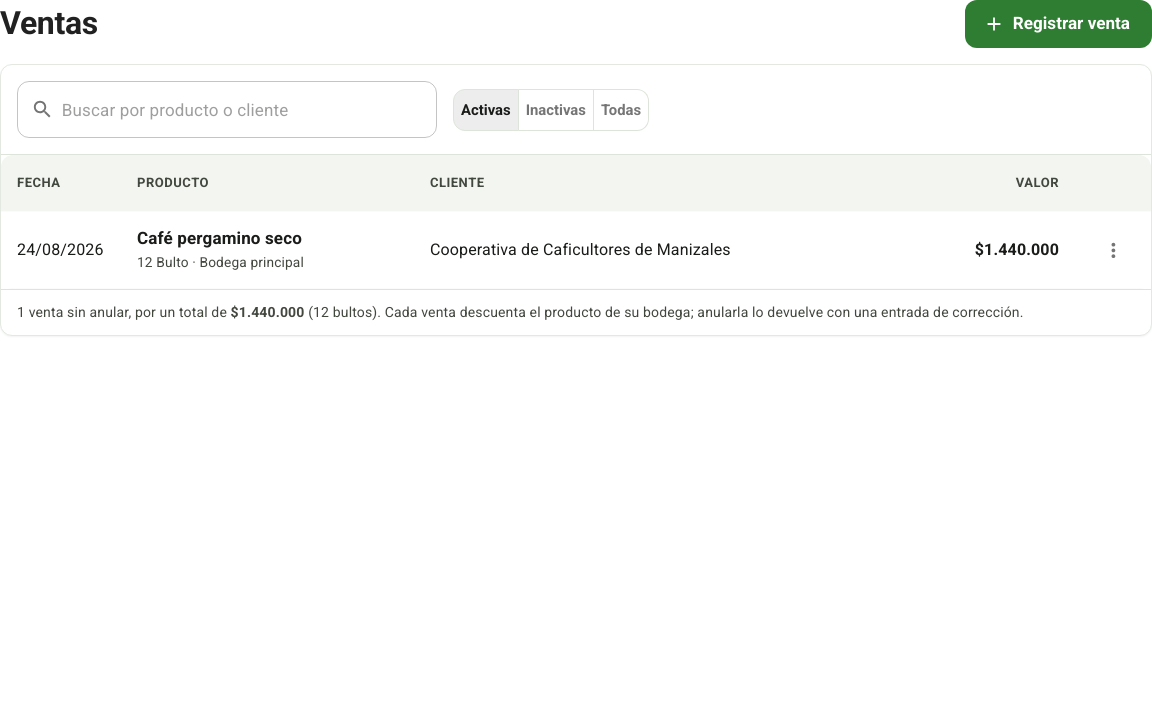
voiding a sale › closes the confirmation on Cancelar without voiding
The width and height of the screenshot is (1152, 720).
Expected: the text "Café pergamino seco" is shown, [137, 228, 302, 248]
Click the button named "Acciones de" at (1113, 250), box [1091, 228, 1135, 272]
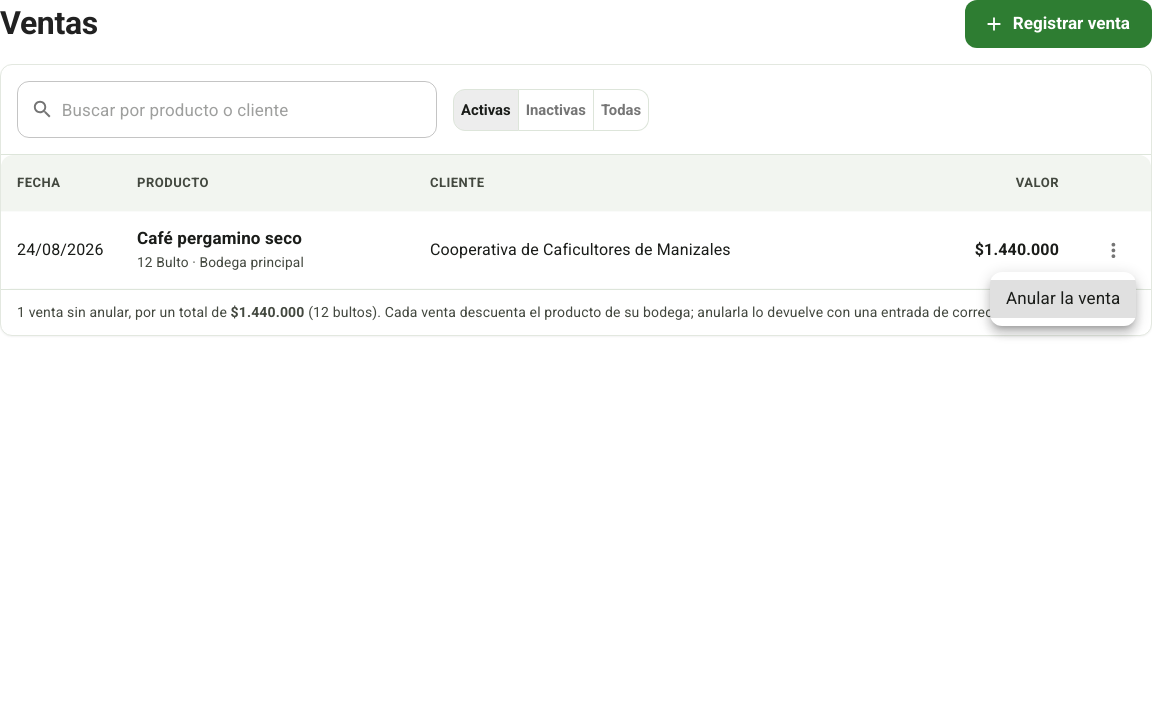
Click the menu item "Anular la venta" at (1063, 299), box [990, 280, 1136, 318]
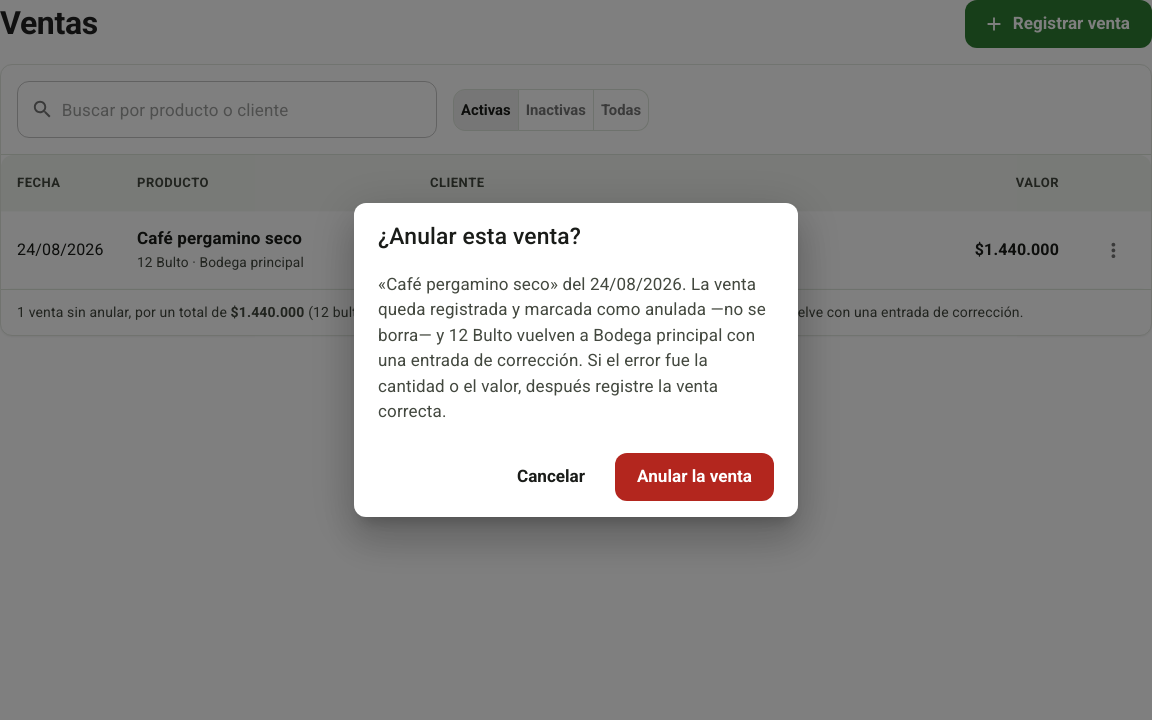
Click the button "Cancelar" at (551, 477), box [495, 453, 607, 501]
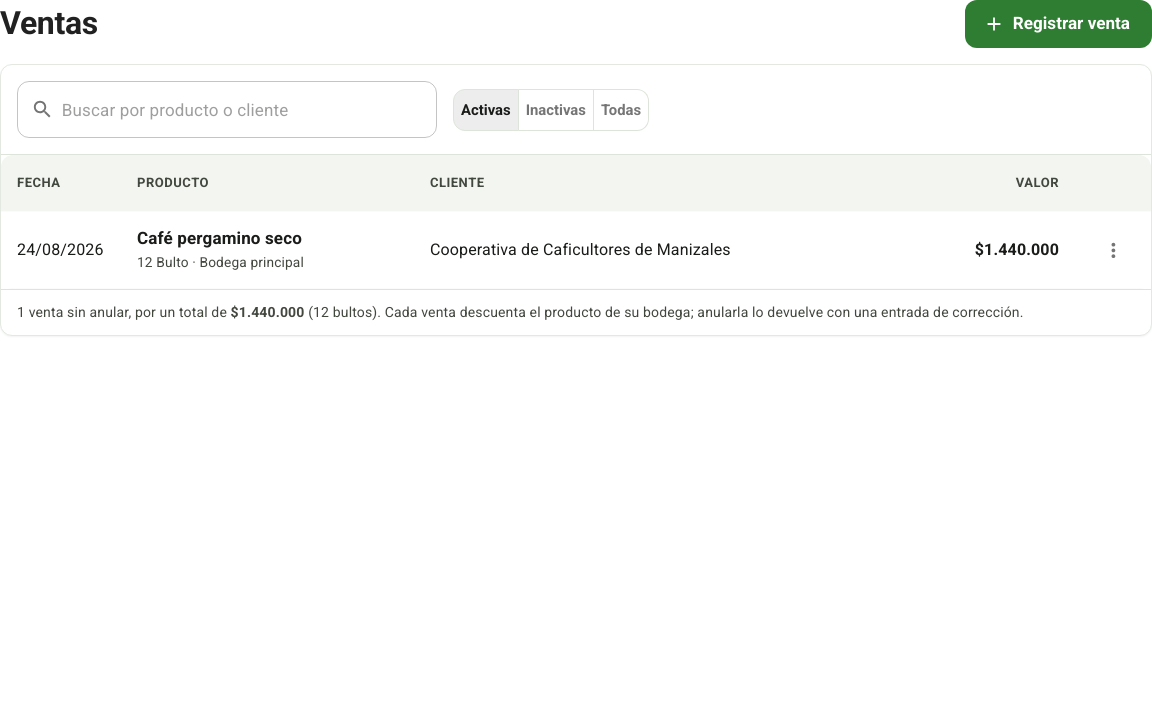
Now the dialog is gone
